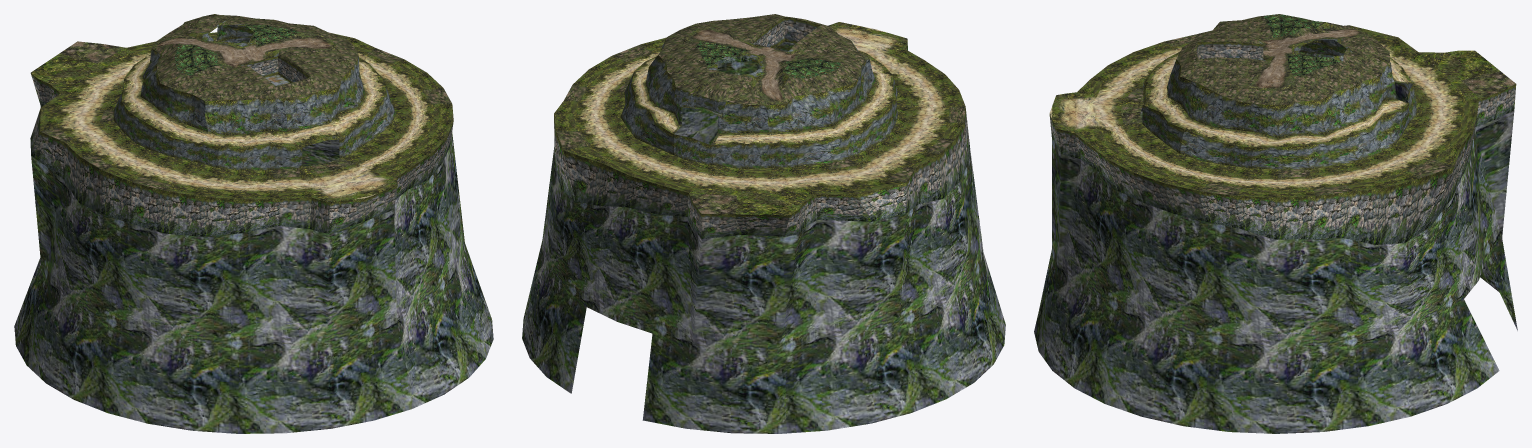
The model's file is Cyr04.obj.
3 views of the same model, side by side, from view 1: azimuth 30°, elevation 25°; view 2: azimuth 150°, elevation 25°; view 3: azimuth 270°, elevation 25° (orthographic).
Parts seen in each view (by area): view 1: Cyr04; view 2: Cyr04; view 3: Cyr04.
Part boxes in pixels (x1,y1,x2,y2): Cyr04: (14,14,493,433); Cyr04: (522,14,1005,433); Cyr04: (1034,14,1517,433).
Size of the model in its own units: 1707 by 1112 by 1707.
